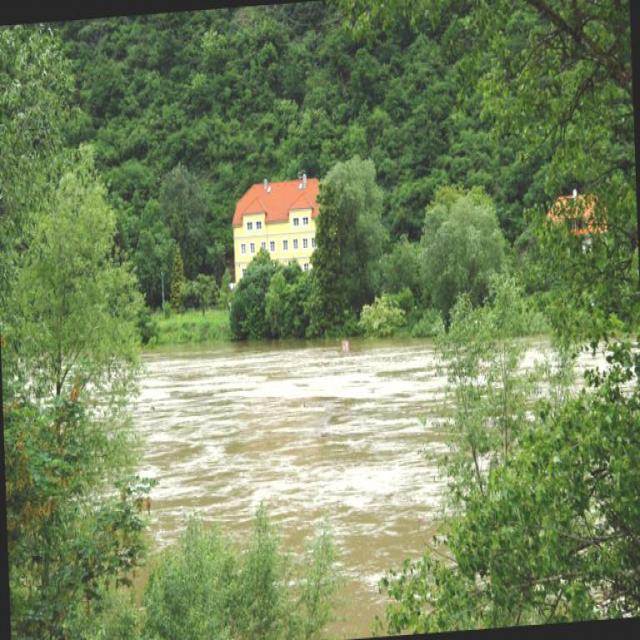flood: (110, 318, 462, 577)
